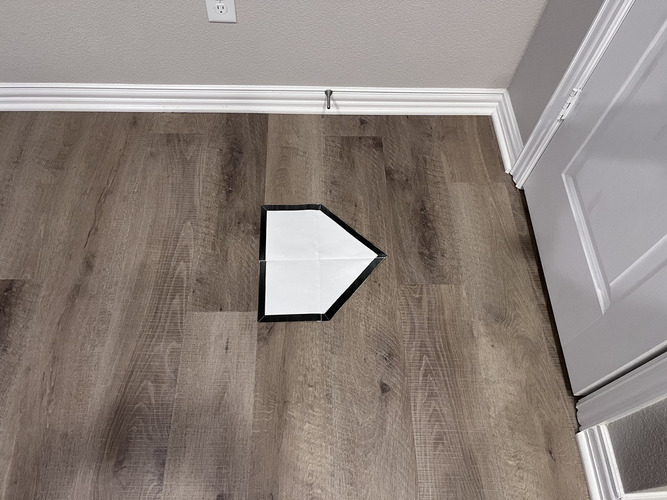homeplate: (257, 204, 385, 323)
